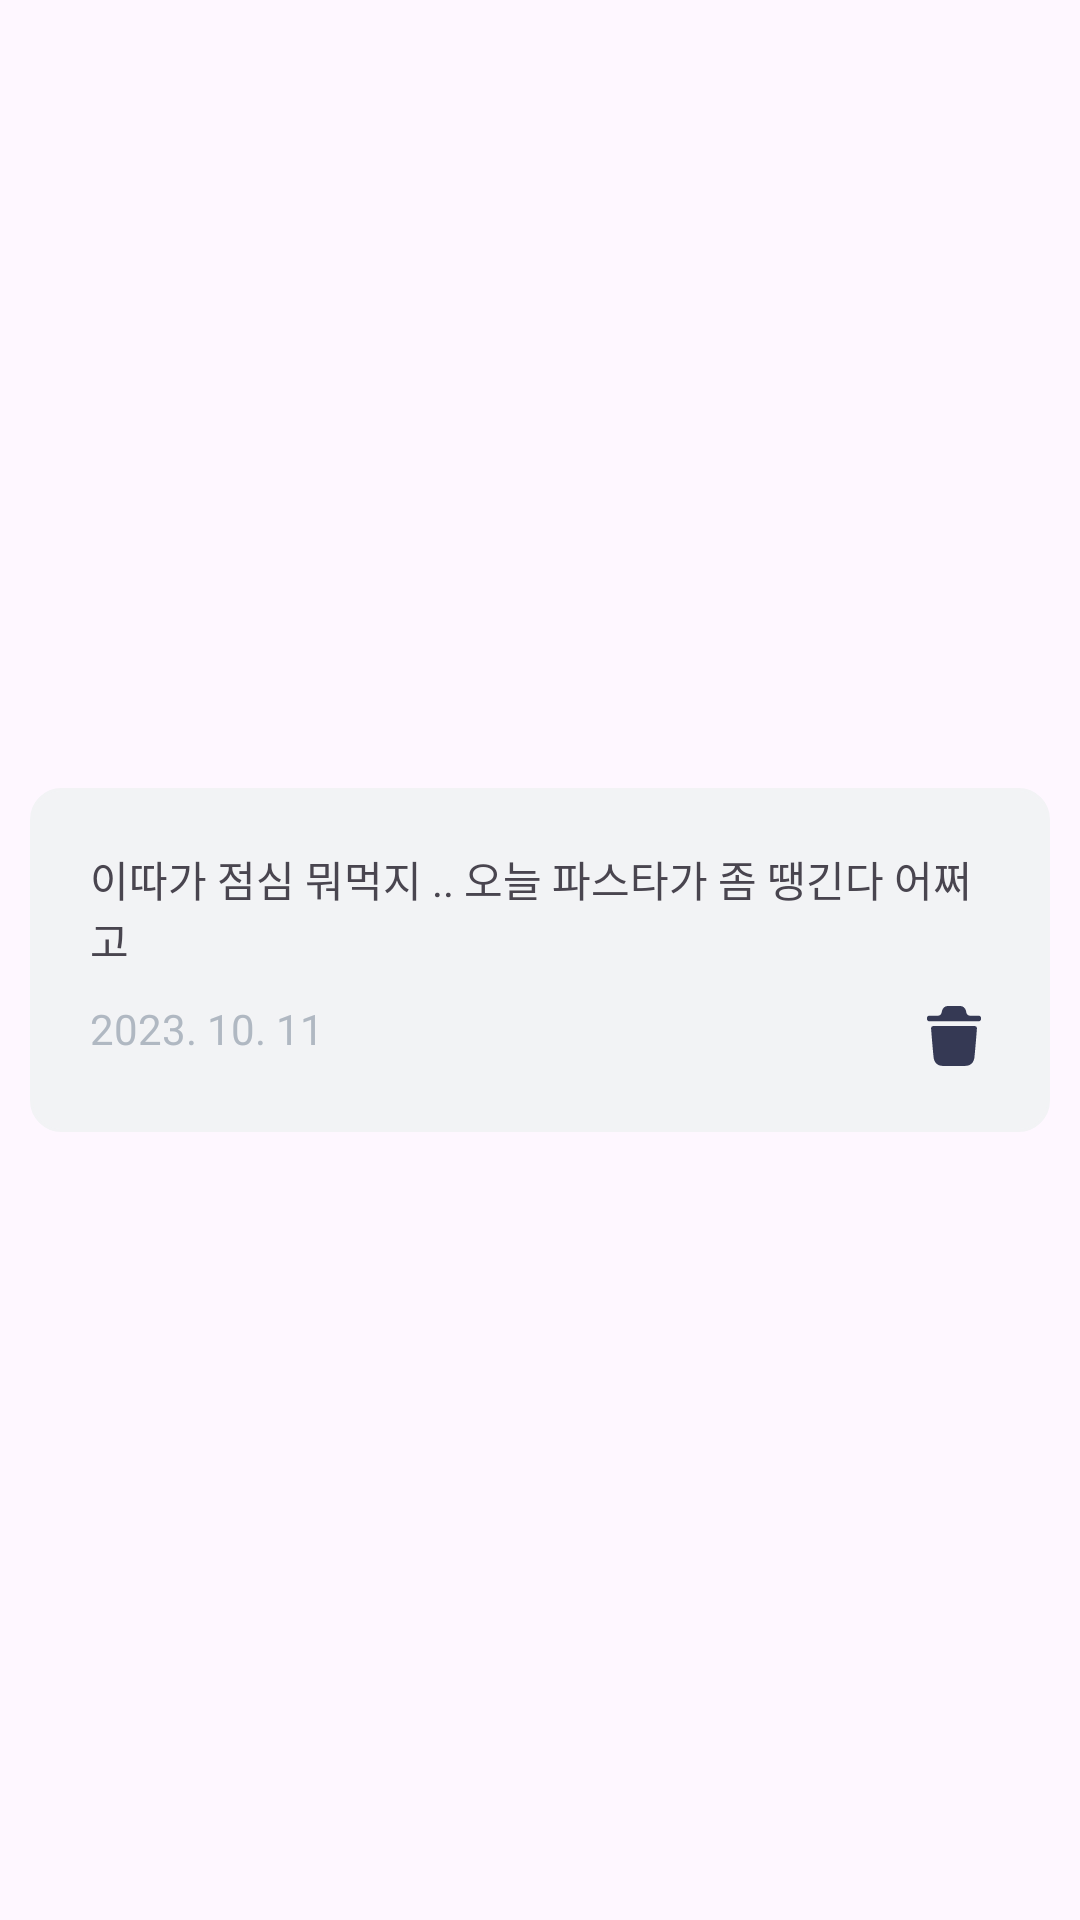

Icon bounding boxes for this 1080px x 1920px phone screenshot, format (x1, y1, x2, y2):
delete: (927, 1006, 981, 1066)
